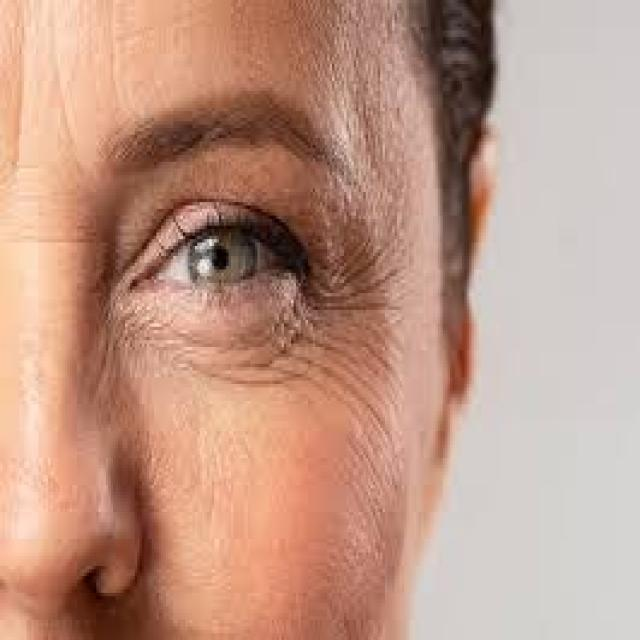Wrinkles: (184, 210, 412, 452)
